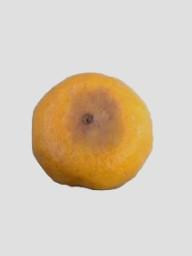Unripe: (33, 75, 151, 191)
